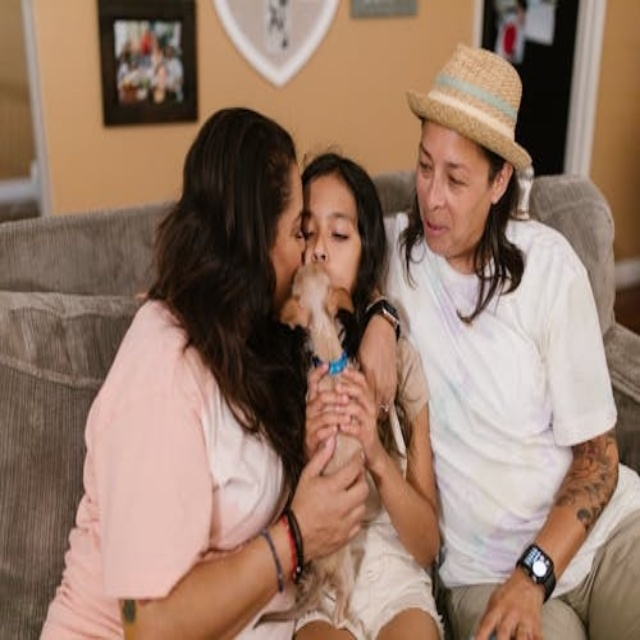Sin_gafas: (411, 138, 479, 198), (300, 206, 357, 248), (269, 209, 305, 254)
Sin_guantes: (278, 429, 376, 569), (303, 361, 362, 469), (352, 306, 407, 415), (472, 559, 548, 632)
Sin_mascara: (421, 211, 463, 252)
